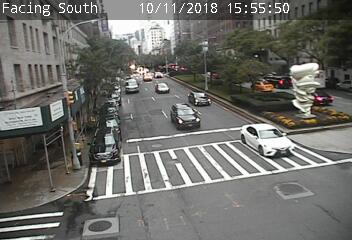car: (241, 124, 293, 157), (171, 103, 199, 131), (188, 91, 210, 105), (155, 83, 169, 93), (143, 73, 152, 81), (153, 72, 163, 78)
